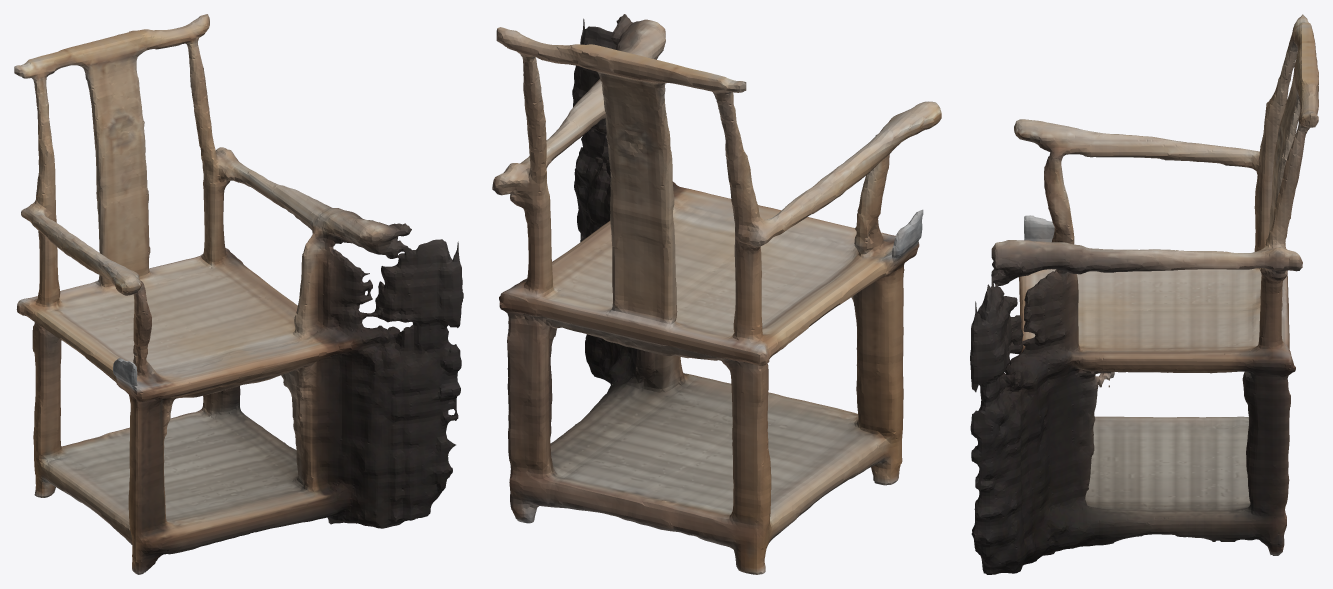
The picture shows the model from 3 angles, left to right: view 1: azimuth 30°, elevation 25°; view 2: azimuth 150°, elevation 25°; view 3: azimuth 270°, elevation 25°; orthographic projection. The views are drawn at different scales.
Parts seen in each view (by area): view 1: geometry_0; view 2: geometry_0; view 3: geometry_0.
Part boxes in pixels (x1=…): geometry_0: x1=14, y1=14, x2=463, y2=574; geometry_0: x1=492, y1=14, x2=941, y2=574; geometry_0: x1=970, y1=14, x2=1318, y2=574.
Size of the model in its own units: 1.58 by 1.99 by 1.42.
